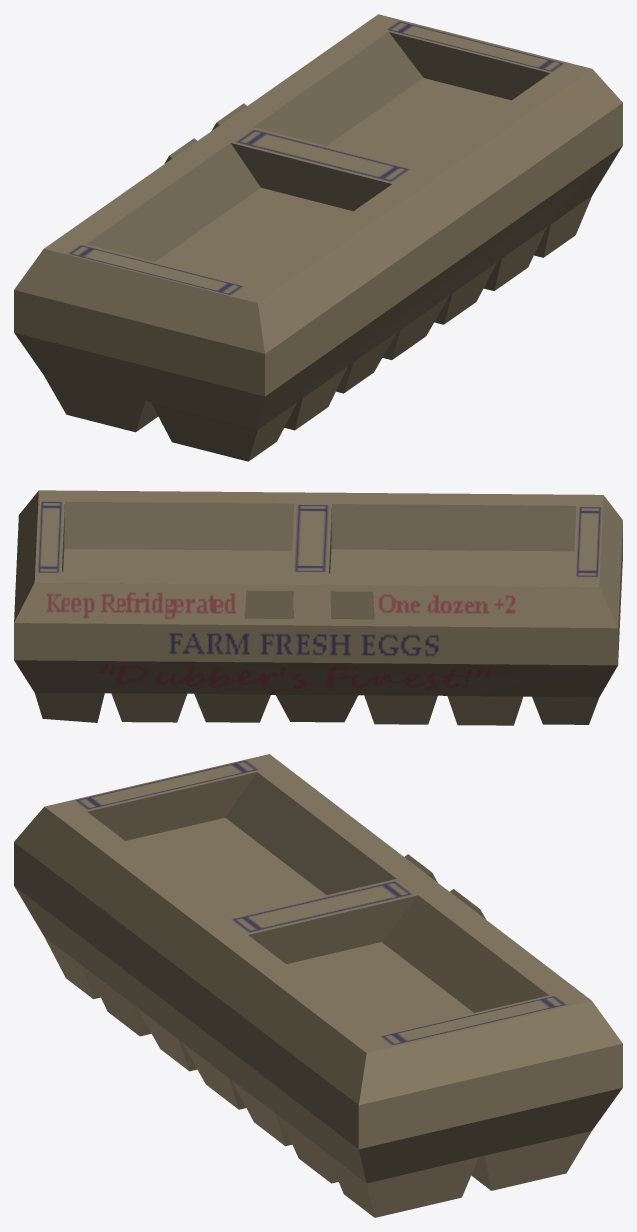
Rendered from fridge 1.fbx.
The picture shows the model from 3 angles, top to bottom: view 1: azimuth 30°, elevation 25°; view 2: azimuth 150°, elevation 25°; view 3: azimuth 270°, elevation 25°; orthographic projection. The views are drawn at different scales.
Visible parts, largest first — view 1: Cube.005; view 2: Cube.005; view 3: Cube.005.
Boxes of the visible parts, <box> form: Cube.005: <box>14,14,622,461</box>; Cube.005: <box>14,490,622,725</box>; Cube.005: <box>14,754,622,1217</box>.
Bounding box in the file's own units: 78.55 × 19.26 × 62.1.
